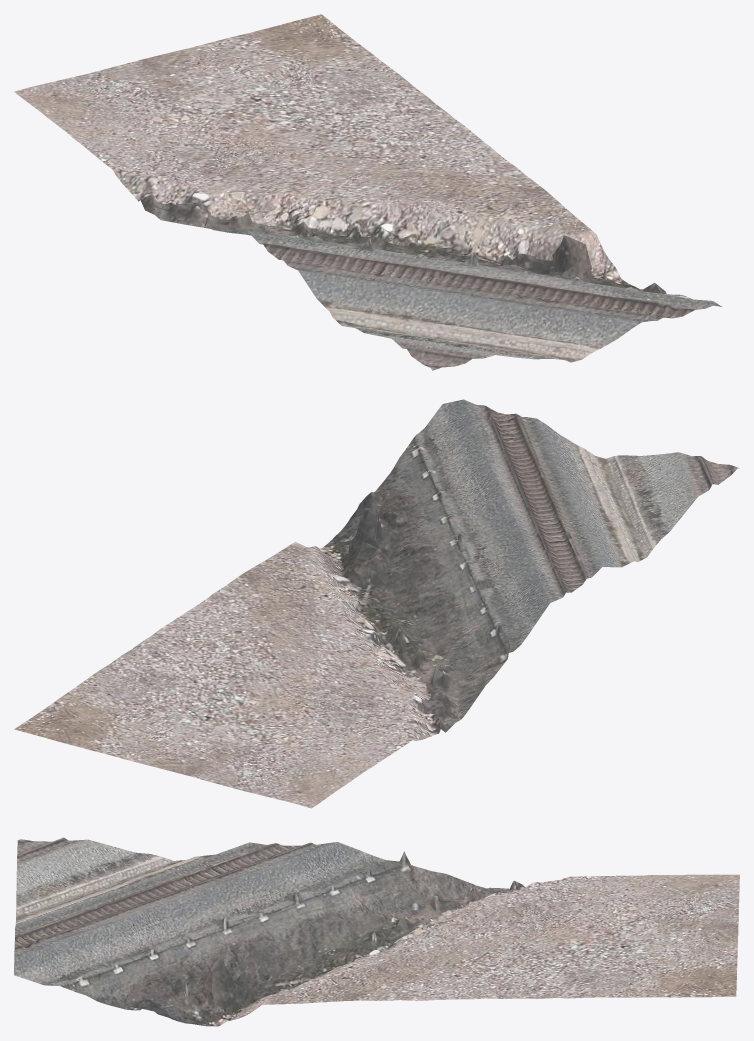
File: Tile_+003_+004_L20_0uuuu0.glb
The picture shows the model from 3 angles, top to bottom: view 1: azimuth 30°, elevation 25°; view 2: azimuth 150°, elevation 25°; view 3: azimuth 270°, elevation 25°; orthographic projection. The views are drawn at different scales.
Visible parts, largest first — view 1: rtc; view 2: rtc; view 3: rtc.
Boxes of the visible parts, x1=… form: rtc: x1=14, y1=14, x2=721, y2=370; rtc: x1=14, y1=399, x2=739, y2=808; rtc: x1=14, y1=837, x2=739, y2=1026.
Bounding box in the file's own units: 19.58 × 4.4 × 46.32.
Materials: 3 (3 with a texture image).
